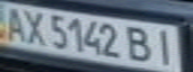1: (63, 16, 84, 53)
2: (96, 20, 124, 60)
4: (81, 18, 103, 55)
5: (45, 12, 69, 51)
A: (0, 3, 30, 43)
B: (124, 25, 157, 64)
I: (148, 26, 181, 66)
X: (18, 7, 48, 46)
